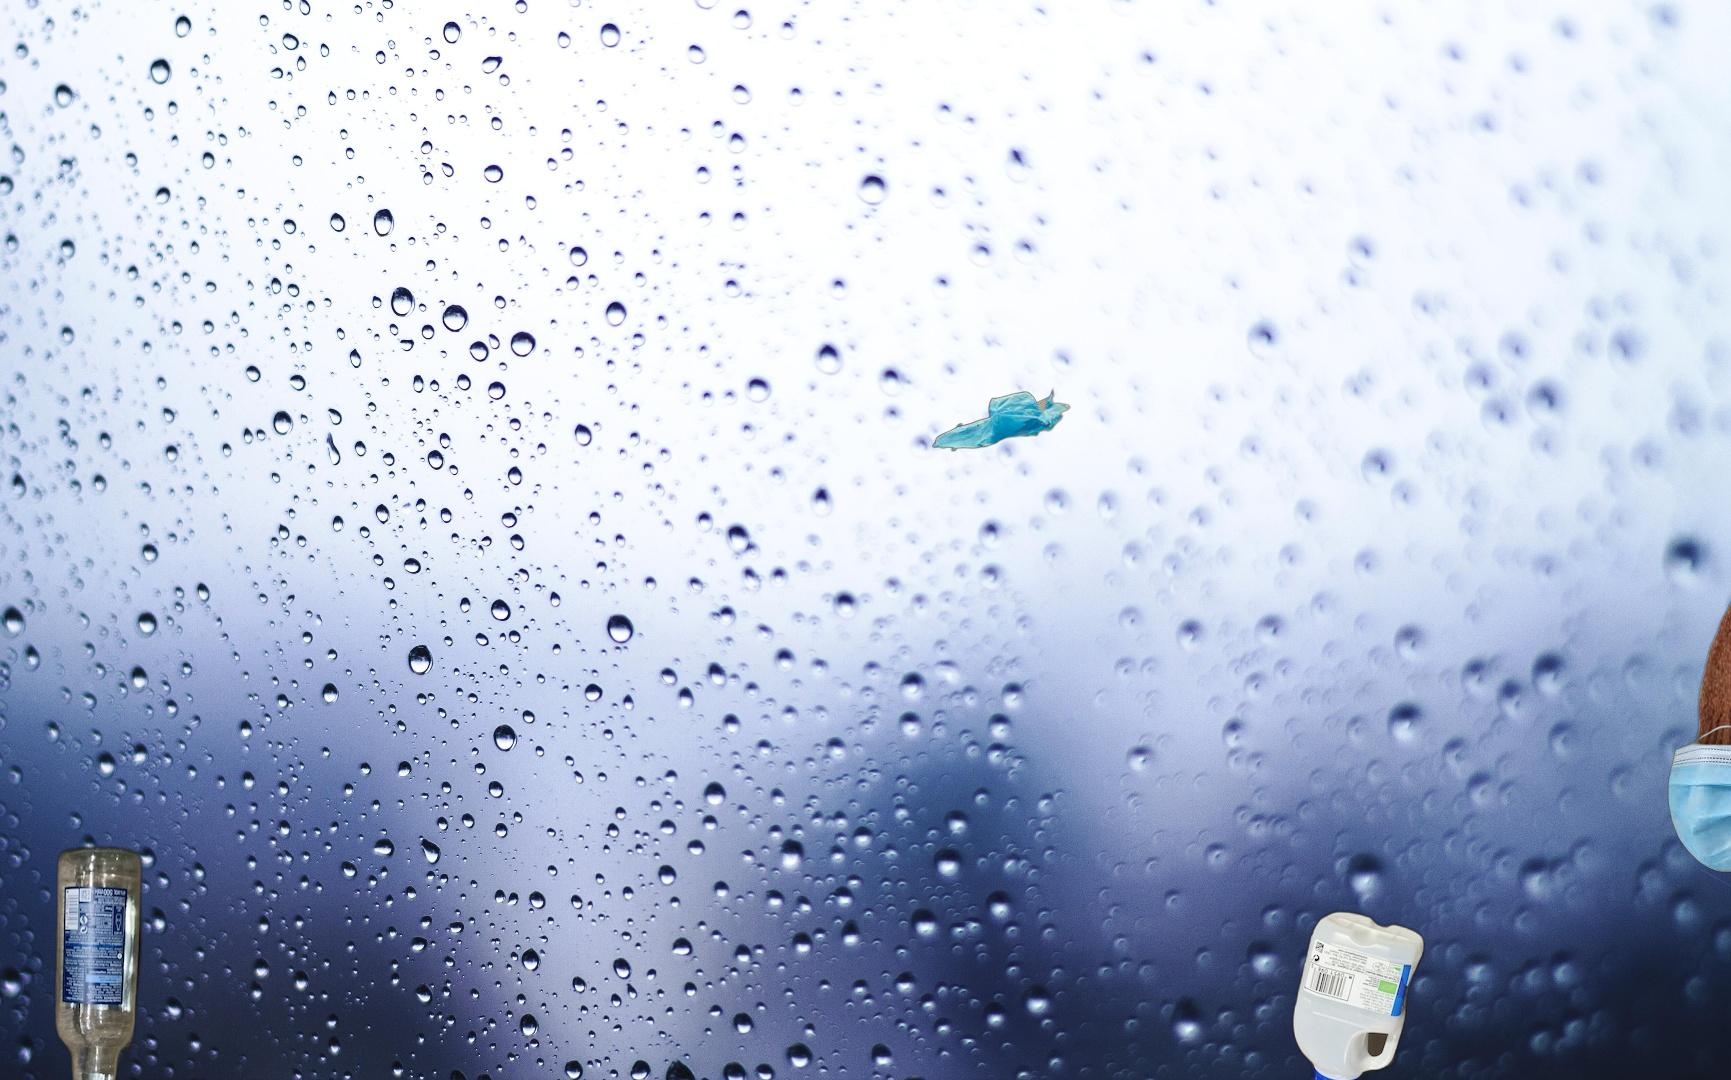clothes: (1687, 477, 1731, 803)
glass: (50, 840, 147, 1080)
plastic-bag: (929, 386, 1073, 493)
plastic-bottles: (1288, 905, 1429, 1080)
trash: (1665, 722, 1731, 875)
